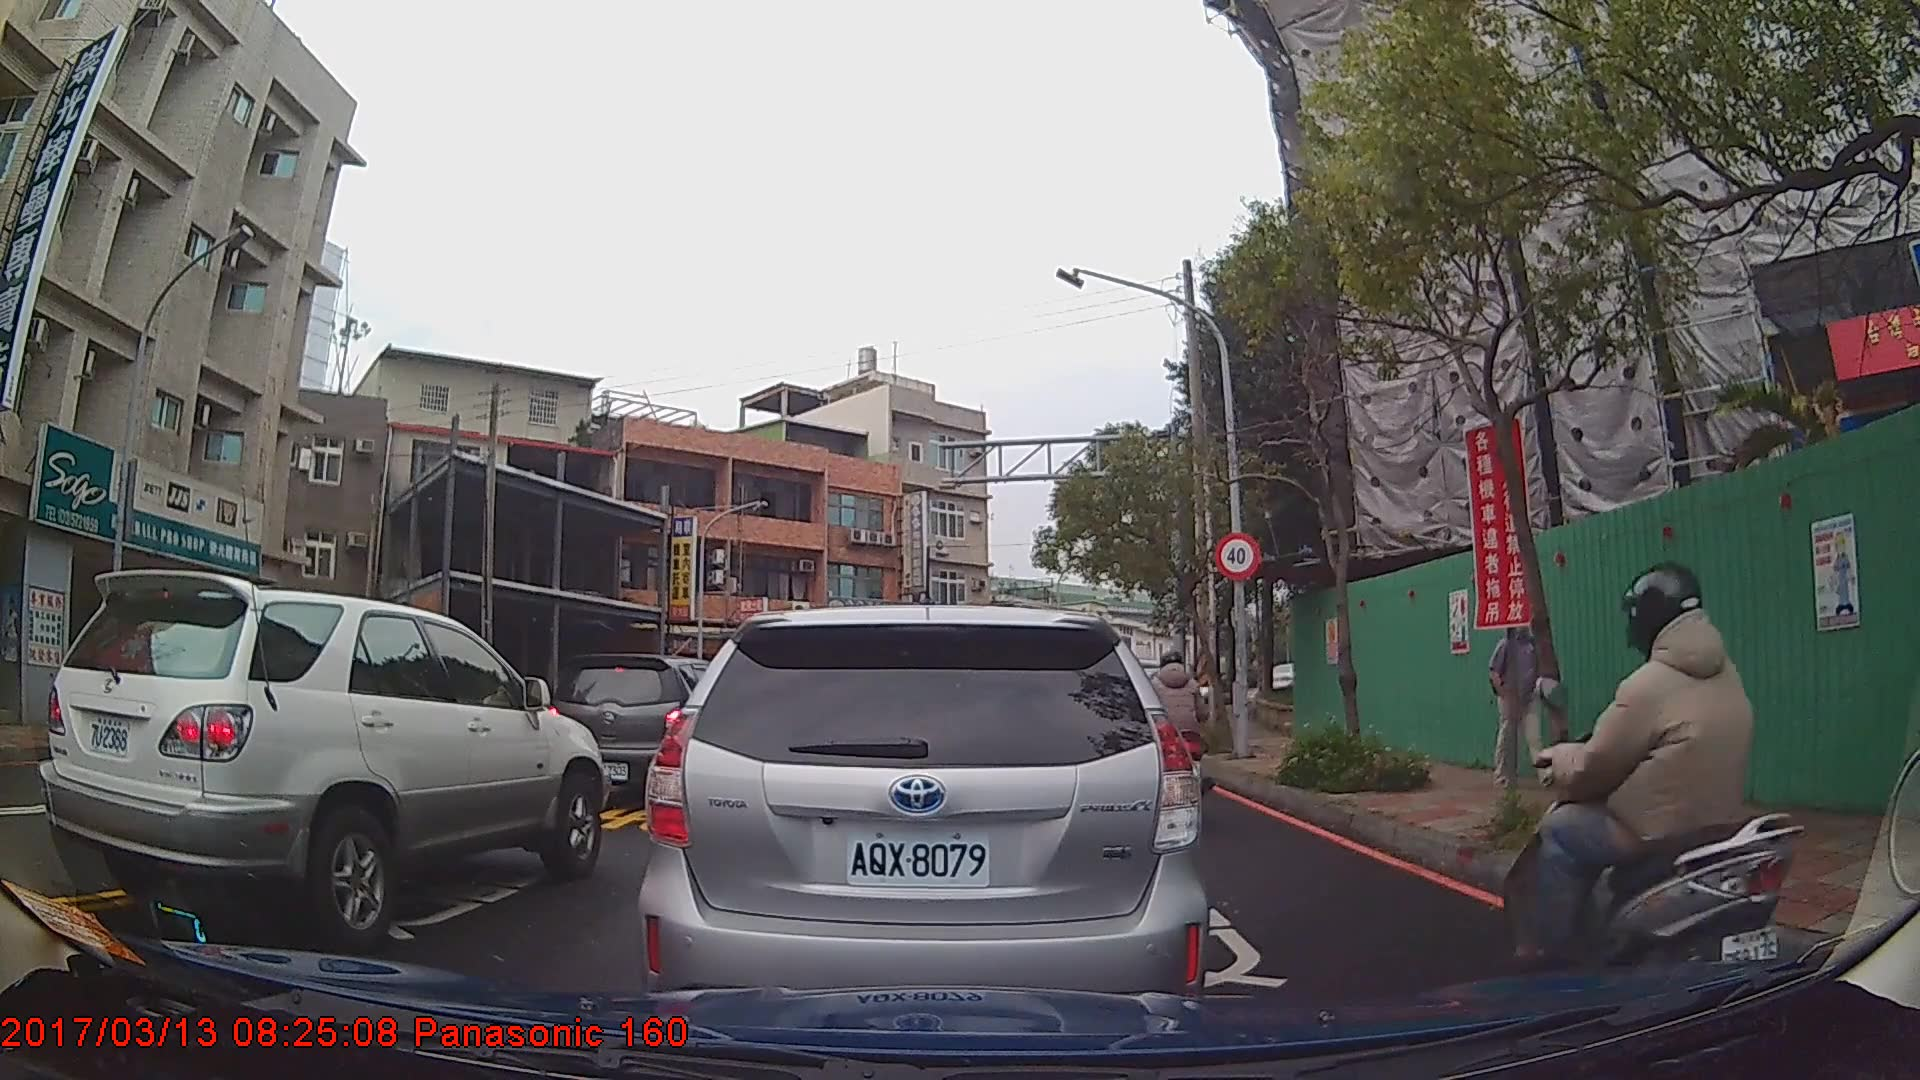pedestrian: (1489, 606, 1546, 794)
rider: (1496, 561, 1812, 1032)
vehicle: (632, 600, 1210, 1038), (33, 570, 606, 951), (551, 650, 752, 801)
